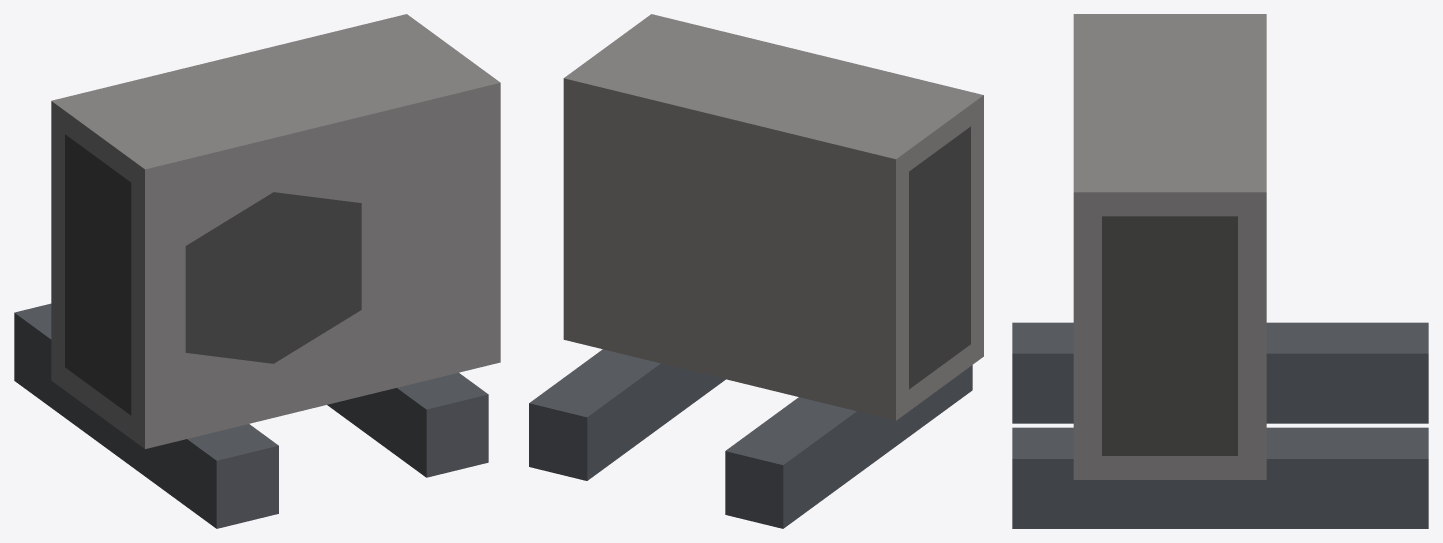
Rendered from SM_Prop_Aircon_01.fbx.
3 views of the same model, side by side, from view 1: azimuth 30°, elevation 25°; view 2: azimuth 150°, elevation 25°; view 3: azimuth 270°, elevation 25° (orthographic). The views are drawn at different scales.
Visible parts, largest first — view 1: SM_Prop_Aircon_01; view 2: SM_Prop_Aircon_01; view 3: SM_Prop_Aircon_01.
Boxes of the visible parts, x1,y1,x2,y2 form: SM_Prop_Aircon_01: [14, 14, 500, 528]; SM_Prop_Aircon_01: [529, 14, 983, 528]; SM_Prop_Aircon_01: [1012, 14, 1428, 528].
Size of the model in its own units: 14.89 by 13.92 by 14.68.
